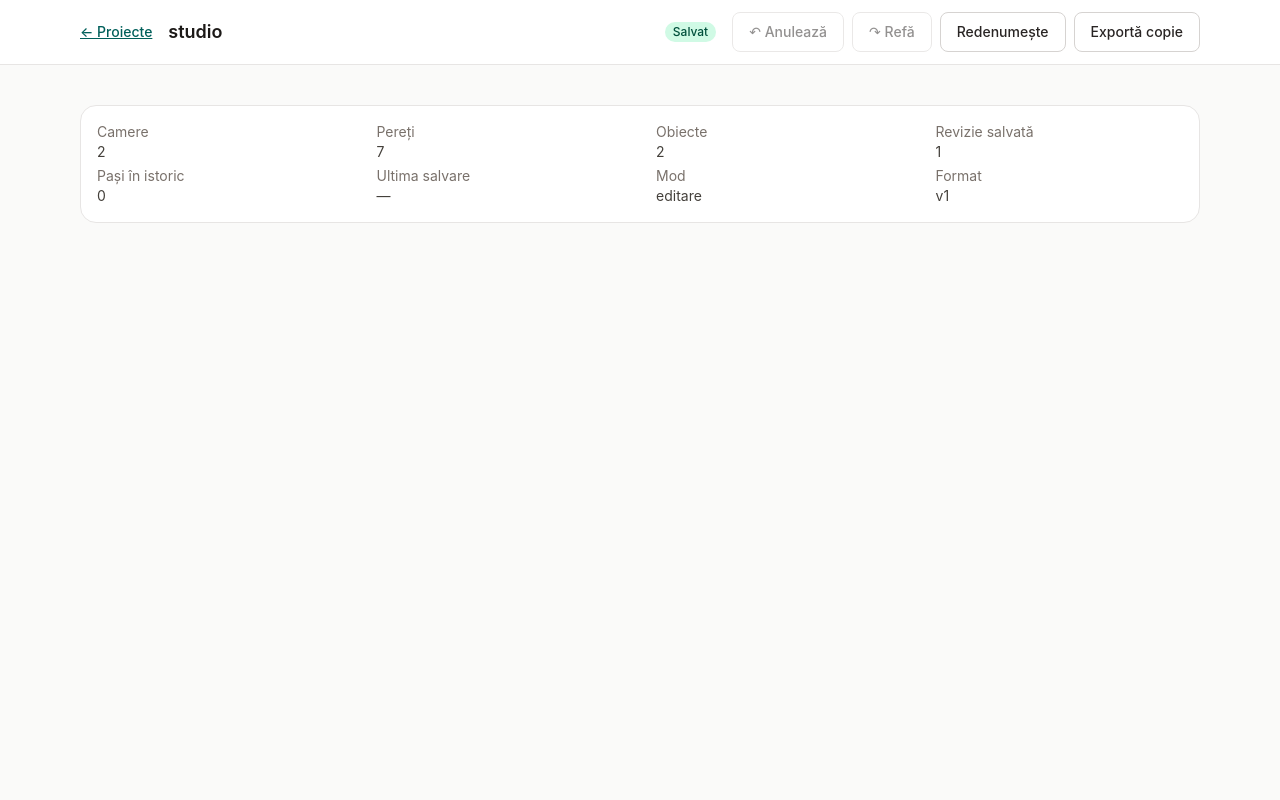
Scenario: Editor — sesiunea React peste ProjectSession › undo / redo din butoane și de la tastatură; etichetele și starea butoanelor urmează sesiunea
The image size is (1280, 800).
Expected: the element with test id "editor" is shown, [0,0,1279,223]
Click the button with test id "rename" at (1003, 32), box [940,12,1066,52]
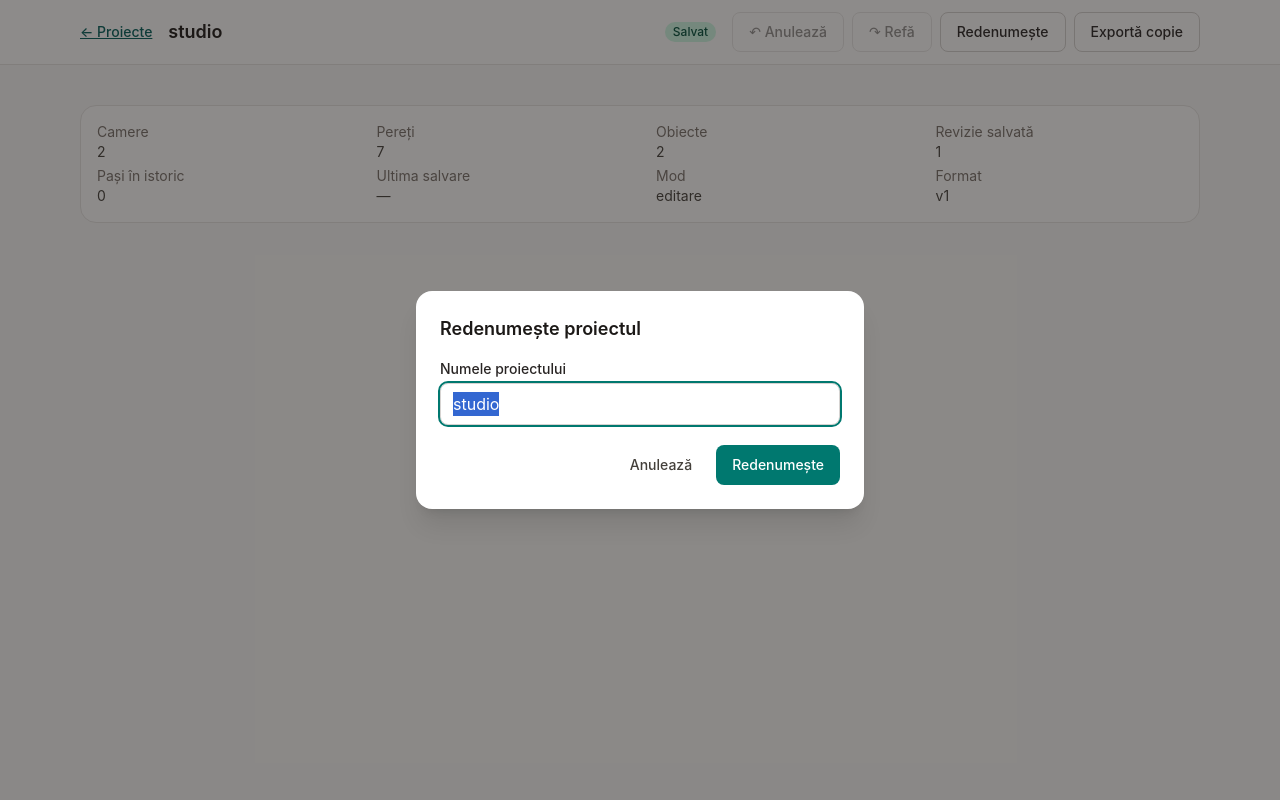
Replace the text in the field labelled "Numele proiectului" with "B" at (640, 404), box [440,383,840,425]
Click the button "Redenumește" at (778, 465), box [716,445,840,485]
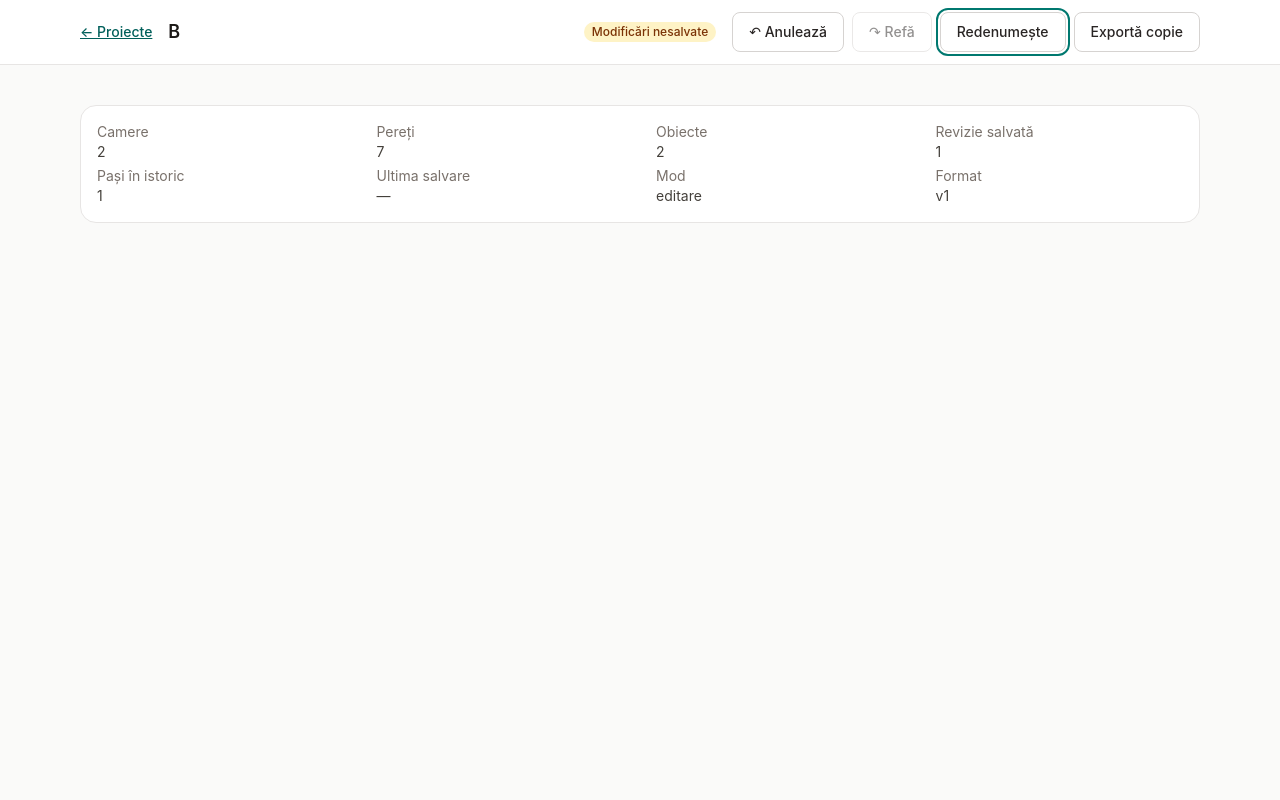
Expected: the button with test id "redo" is disabled, [852,12,932,52]
Expected: the button with test id "undo" is enabled
Click the button with test id "undo" at (788, 32), box [732,12,844,52]
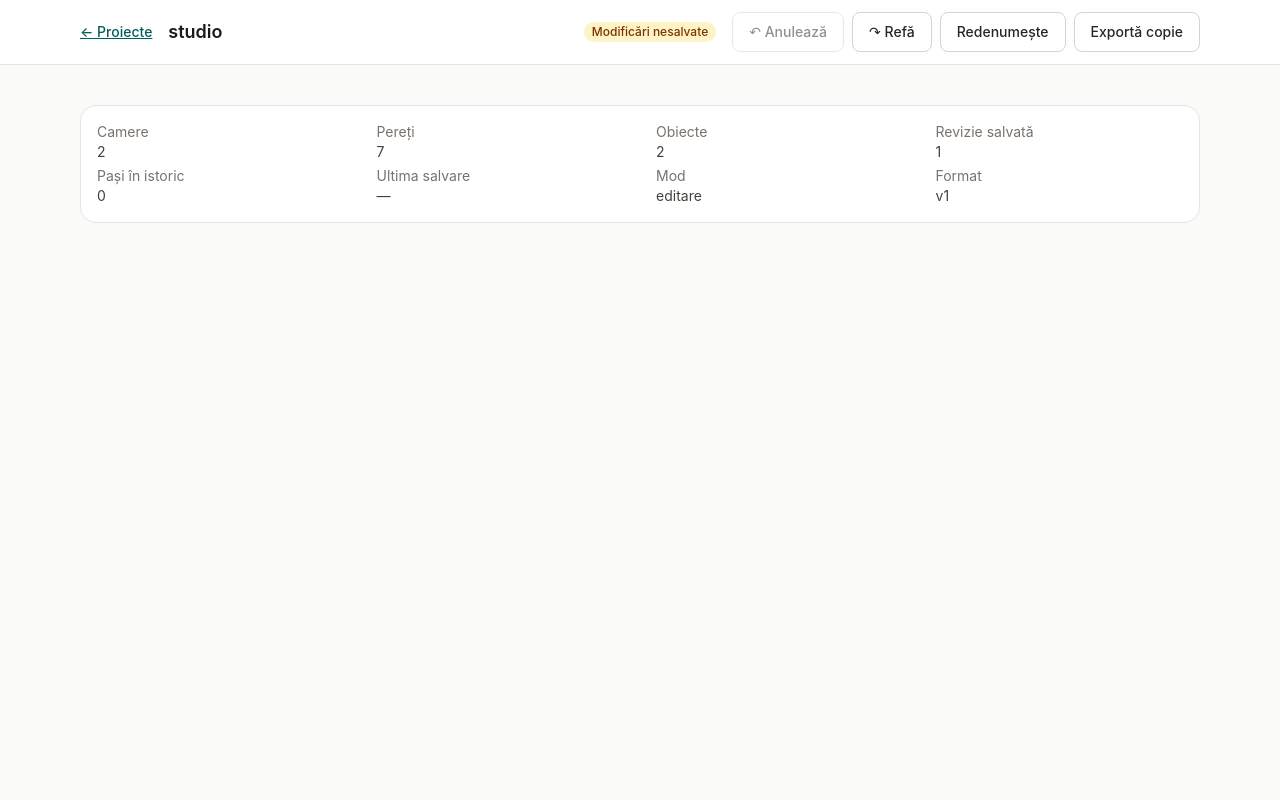
Expected: the heading with test id "project-title" reads "studio", [168,21,223,42]
Expected: the button with test id "redo" is enabled
Click the button with test id "redo" at (892, 32), box [852,12,932,52]
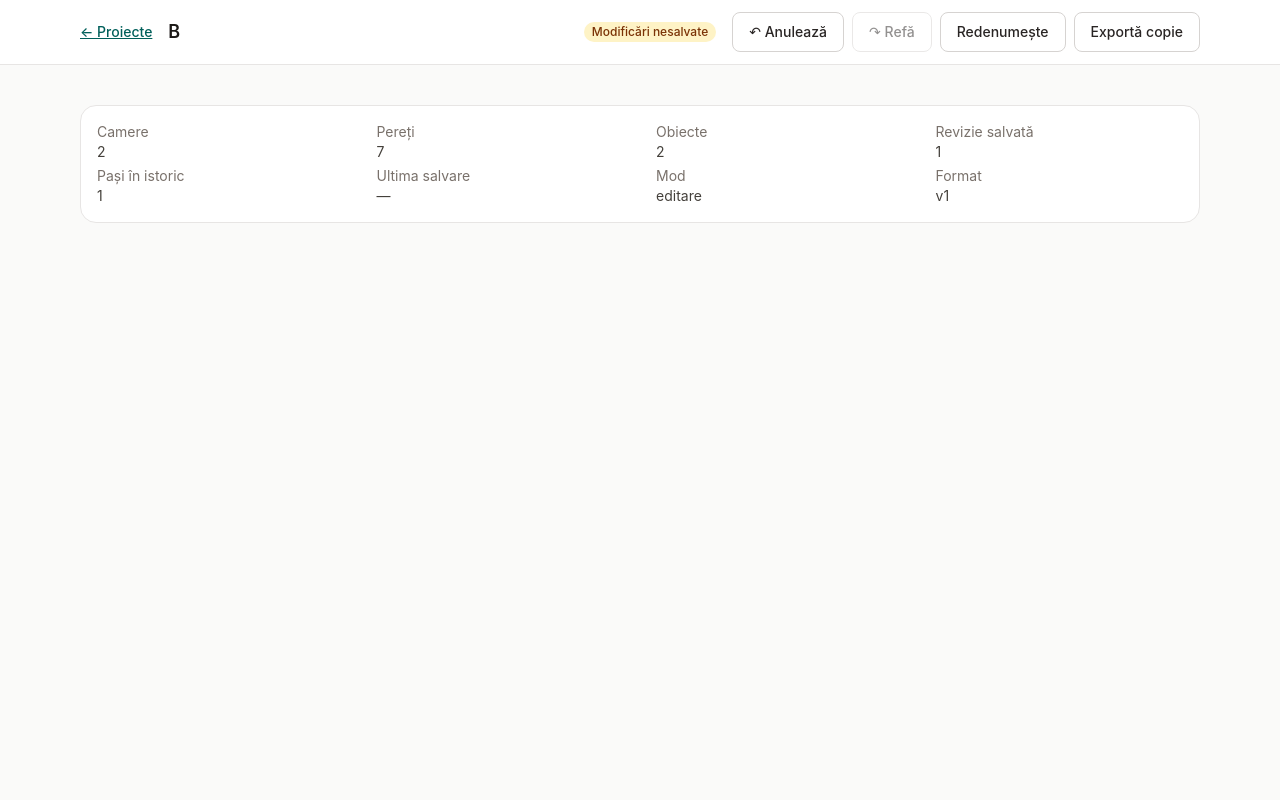
Expected: the heading with test id "project-title" reads "B", [168,21,180,42]
Type keys "{Control>}z{/Control}"
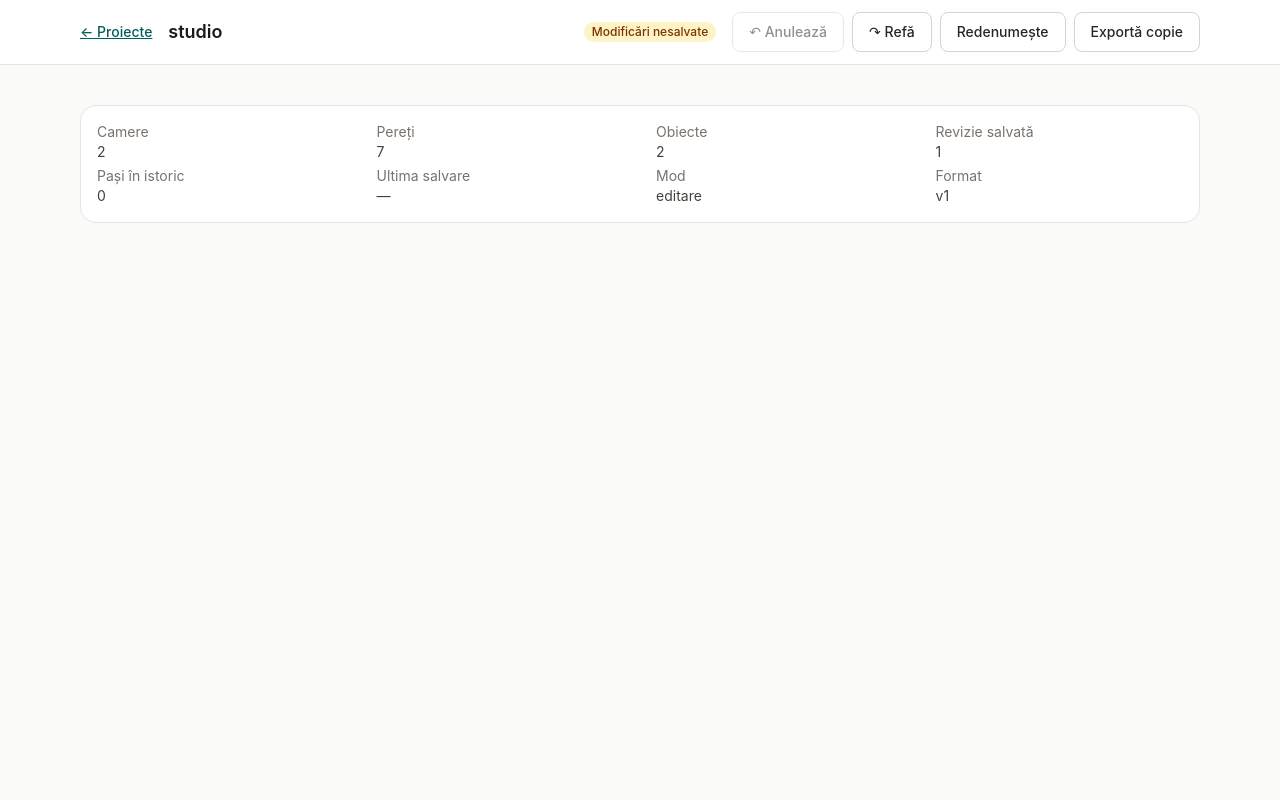
Expected: the heading with test id "project-title" reads "studio", [168,21,223,42]
Type keys "{Control>}{Shift>}z{/Shift}{/Control}"
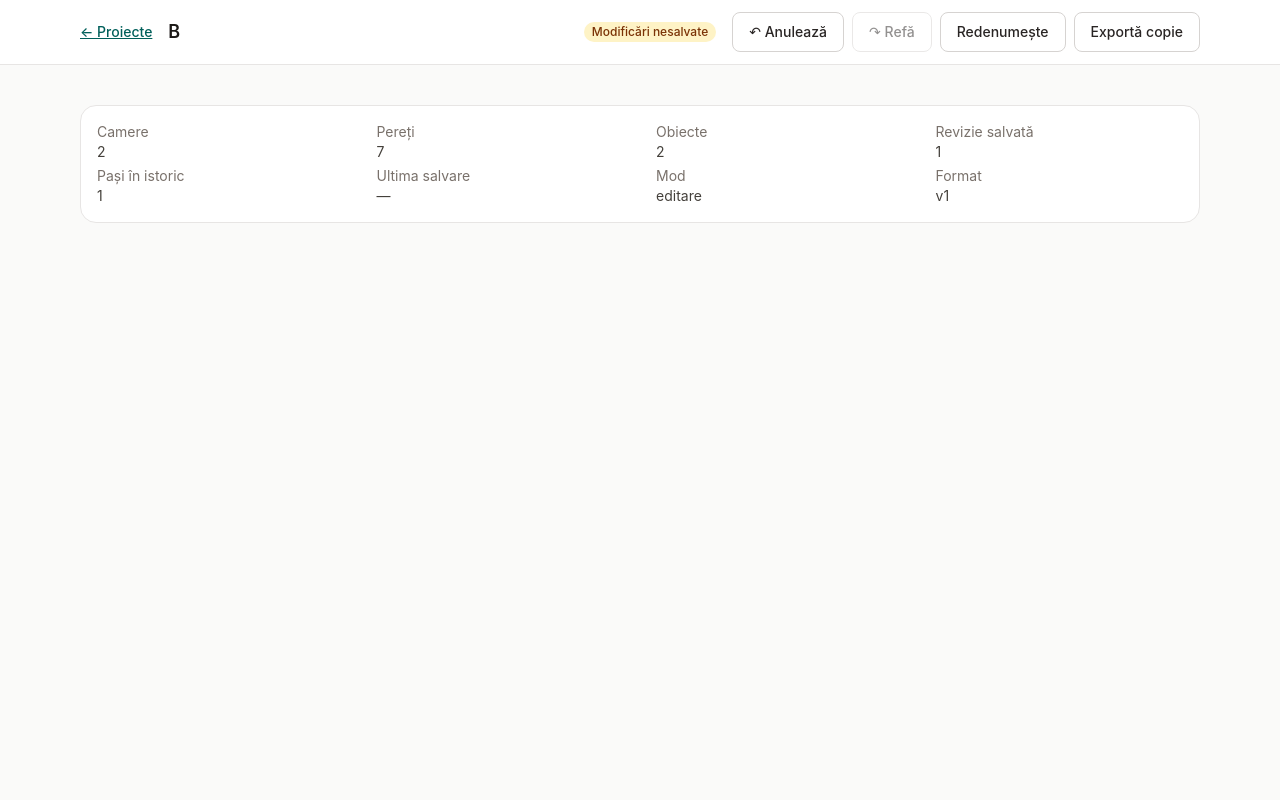
Expected: the heading with test id "project-title" reads "B", [168,21,180,42]
Expected: the text with test id "history-size" reads "1", [97,187,103,204]
